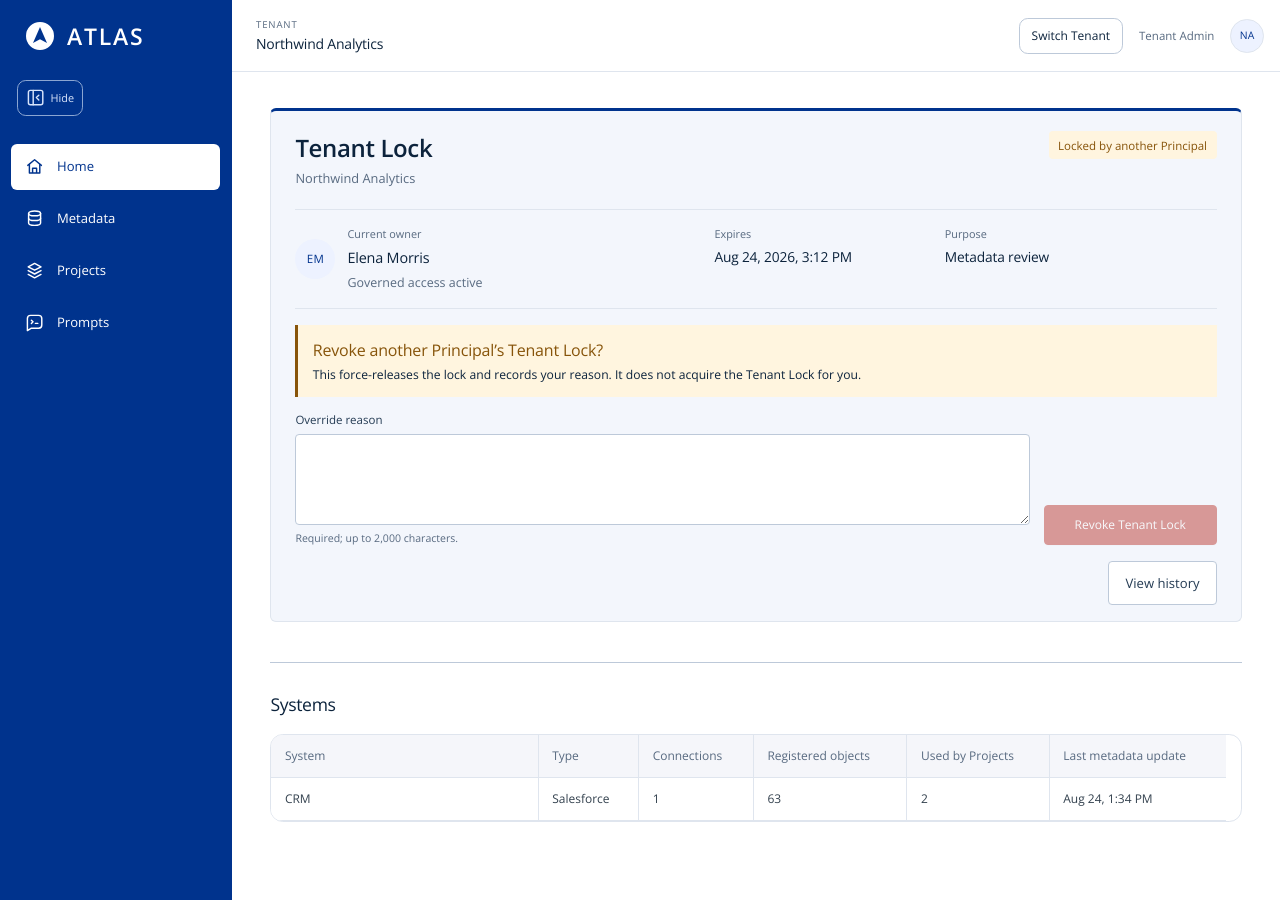
Test: Tenant Home › returns to Tenant selection through the prominent Switch Tenant control
Expected: the heading "Tenant Lock" is shown, [295,131,432,165]
Step 1. Click the link "Switch Tenant" → (1071, 36), box [1019,18,1123,54]
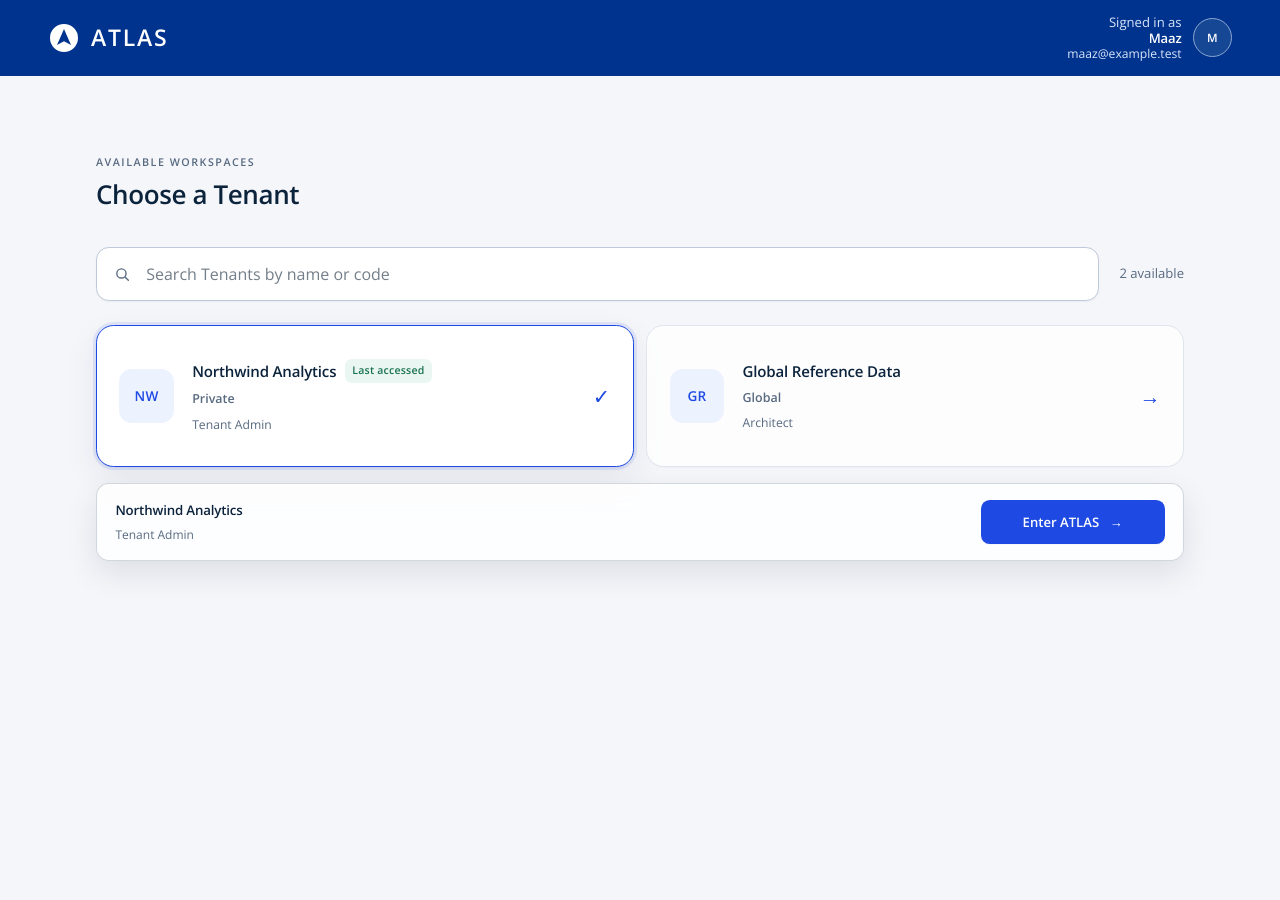
Expected: the heading "Choose a Tenant" is shown, [96,176,299,212]
